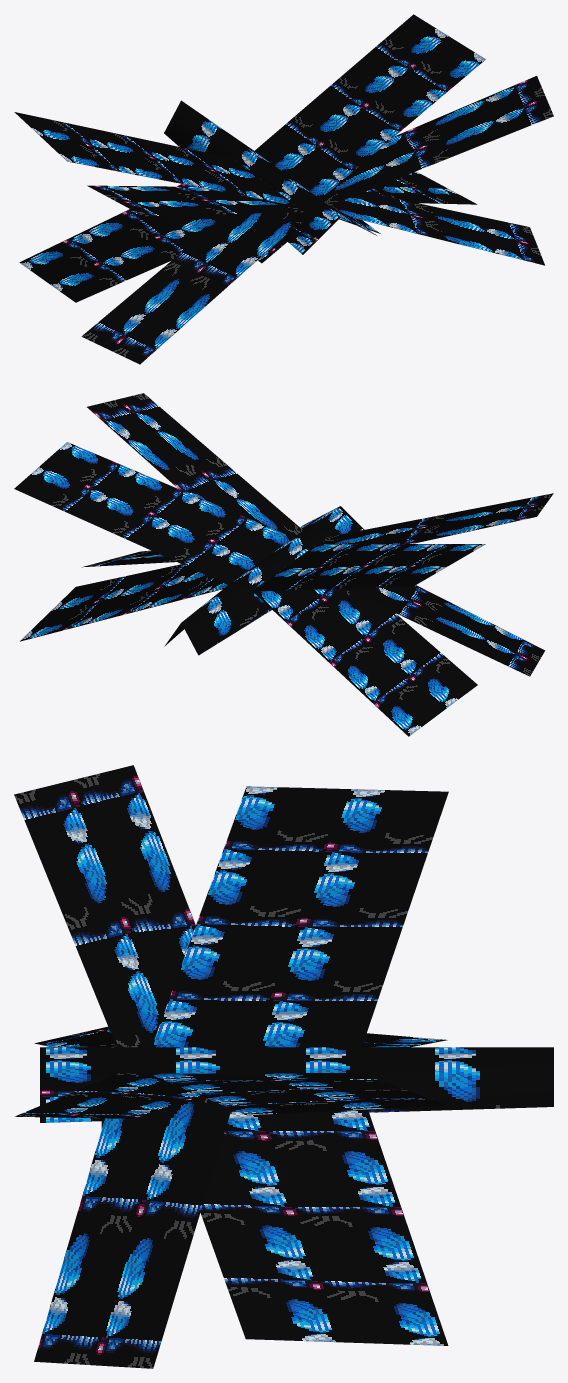
Rendered from 5000musi10.gltf.
The picture shows the model from 3 angles, top to bottom: view 1: azimuth 30°, elevation 25°; view 2: azimuth 150°, elevation 25°; view 3: azimuth 270°, elevation 25°; orthographic projection. The views are drawn at different scales.
Parts seen in each view (by area): view 1: 5000musi10; view 2: 5000musi10; view 3: 5000musi10.
Part boxes in pixels (x1,y1,x2,y2): 5000musi10: (14,14,553,364); 5000musi10: (14,393,553,736); 5000musi10: (14,765,553,1368).
Bounding box in the file's own units: 0.502 × 0.1724 × 0.3237.
2 materials, 2 textured.
